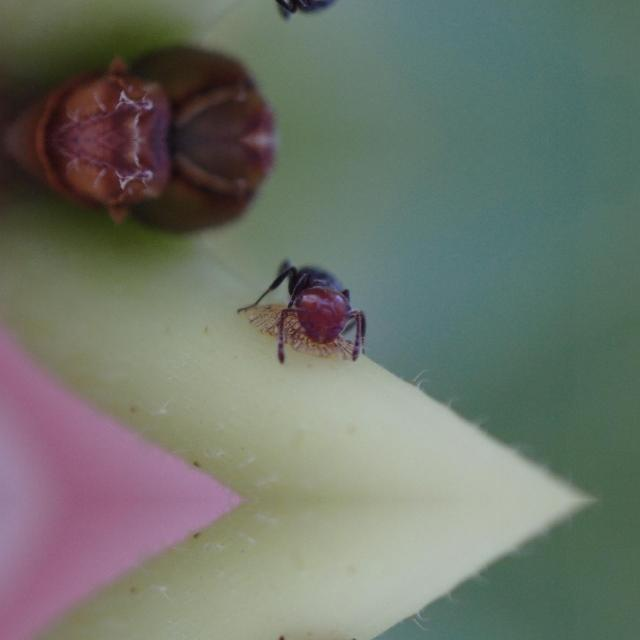Crematogaster: (245, 243, 379, 367), (245, 0, 379, 35)
